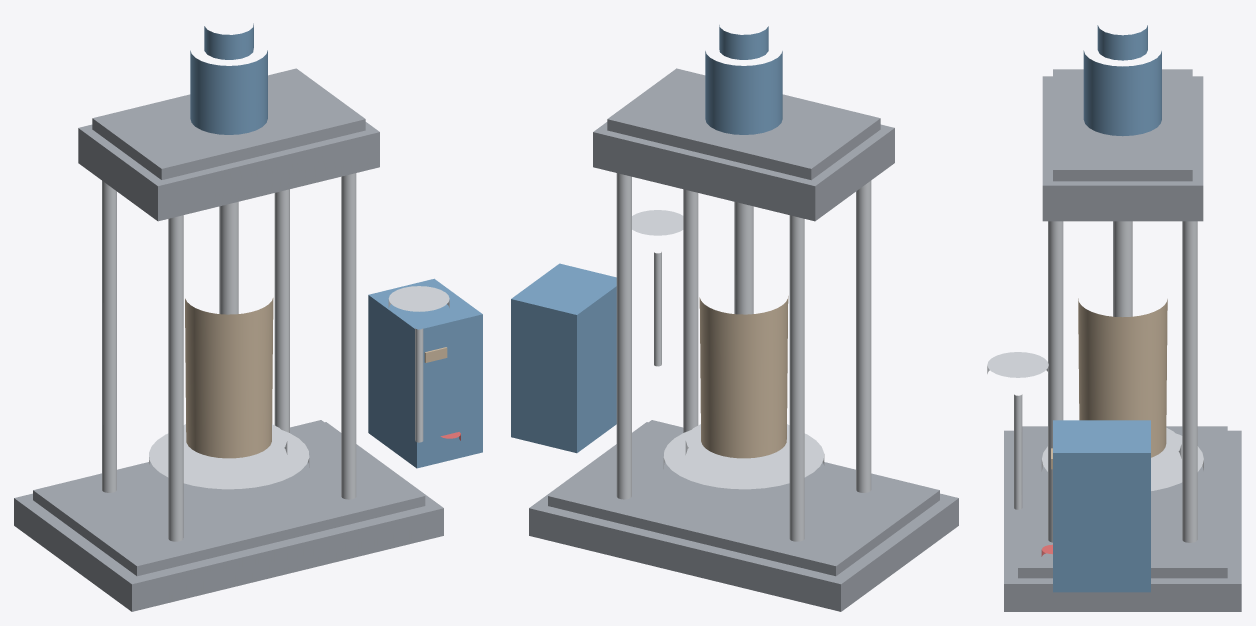
File: prensa_inconfinada.glb
The picture shows the model from 3 angles, left to right: view 1: azimuth 30°, elevation 25°; view 2: azimuth 150°, elevation 25°; view 3: azimuth 270°, elevation 25°; orthographic projection.
Visible parts, largest first — view 1: baseTop, col (×4), panel, base, cross2, cross, muestra, hydraul, platoMovil, piston, dial, hydraul2 (+2 smaller); view 2: baseTop, col (×4), panel, base, cross2, cross, muestra, hydraul, platoMovil, piston, hydraul2, celda (+2 smaller); view 3: panel, baseTop, cross2, base, muestra, cross, col (×2), hydraul, piston, hydraul2, dial, platoMovil (+2 smaller).
Part boxes in pixels (x1=…): baseTop: x1=33, y1=420, x2=425, y2=576; col (×4): x1=102, y1=173, x2=356, y2=541; panel: x1=368, y1=278, x2=482, y2=468; base: x1=14, y1=422, x2=443, y2=611; cross2: x1=92, y1=68, x2=365, y2=179; cross: x1=78, y1=122, x2=379, y2=221; muestra: x1=185, y1=298, x2=273, y2=458; hydraul: x1=190, y1=50, x2=267, y2=134; platoMovil: x1=149, y1=430, x2=309, y2=489; piston: x1=219, y1=202, x2=238, y2=314; dial: x1=388, y1=286, x2=449, y2=311; hydraul2: x1=204, y1=23, x2=253, y2=59; baseTop: x1=548, y1=420, x2=939, y2=576; col (×4): x1=616, y1=173, x2=871, y2=541; panel: x1=511, y1=263, x2=616, y2=453; base: x1=529, y1=422, x2=958, y2=611; cross2: x1=607, y1=68, x2=880, y2=180; cross: x1=593, y1=122, x2=894, y2=221; muestra: x1=699, y1=296, x2=788, y2=458; hydraul: x1=705, y1=51, x2=782, y2=134; platoMovil: x1=663, y1=430, x2=824, y2=489; piston: x1=734, y1=202, x2=753, y2=314; hydraul2: x1=719, y1=25, x2=768, y2=59; celda: x1=685, y1=424, x2=789, y2=464; panel: x1=1053, y1=420, x2=1150, y2=592; baseTop: x1=1018, y1=426, x2=1227, y2=578; cross2: x1=1053, y1=69, x2=1192, y2=181; base: x1=1004, y1=430, x2=1241, y2=611; muestra: x1=1078, y1=298, x2=1167, y2=457; cross: x1=1042, y1=76, x2=1203, y2=221; col (×2): x1=1048, y1=221, x2=1197, y2=542; hydraul: x1=1083, y1=50, x2=1161, y2=136; piston: x1=1113, y1=221, x2=1132, y2=317; hydraul2: x1=1097, y1=25, x2=1147, y2=60; dial: x1=987, y1=352, x2=1048, y2=377; platoMovil: x1=1041, y1=433, x2=1203, y2=490.
Size of the model in its own units: 3.12 by 4.03 by 1.82.
